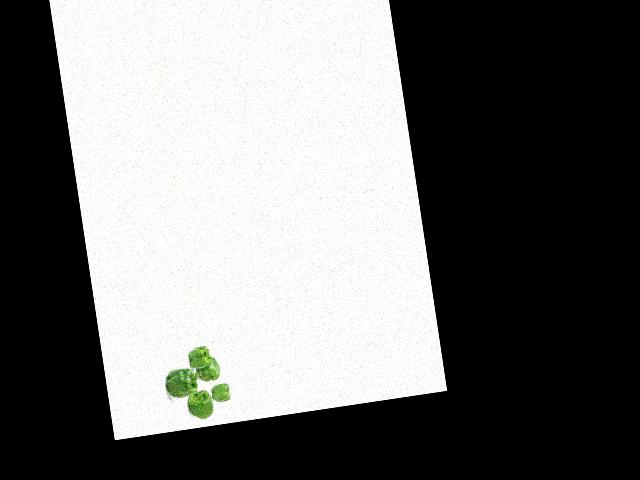bell_pepper: (184, 344, 212, 372)
